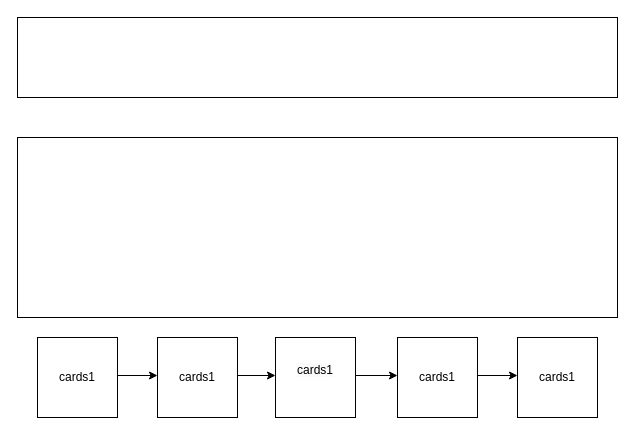
This 635x435 diagram has some shape labels left out. Here are the shapes that lost their labels. From the top down, the centre of each, then its label:
At point (317, 57): "slide bar 812x135".
At point (317, 227): "Features image".
